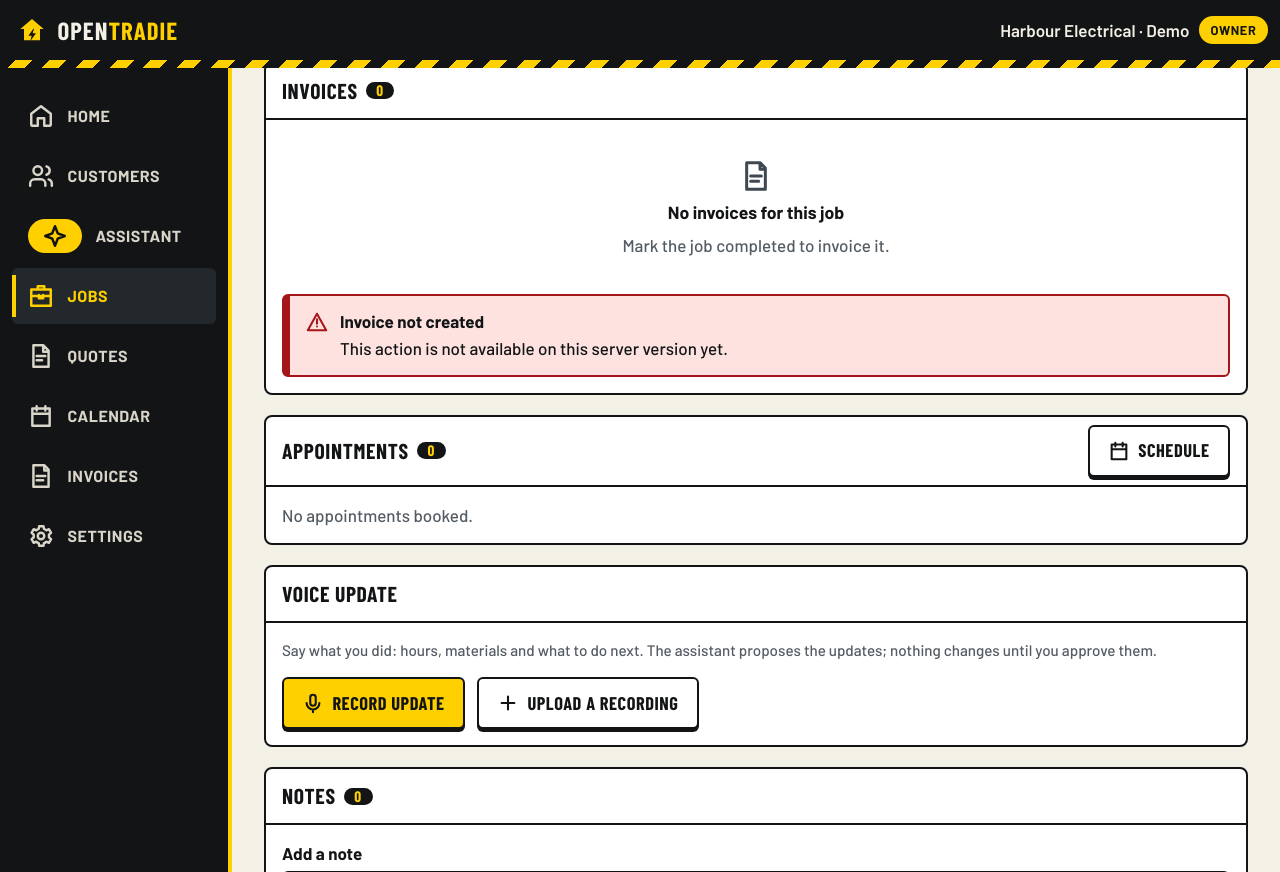
Test: scheduling from the job card › suggests free times and books one with an idempotency key
(page scrolled)
Click the button "Schedule".
click(1159, 450)  # box [1088,424,1230,476]
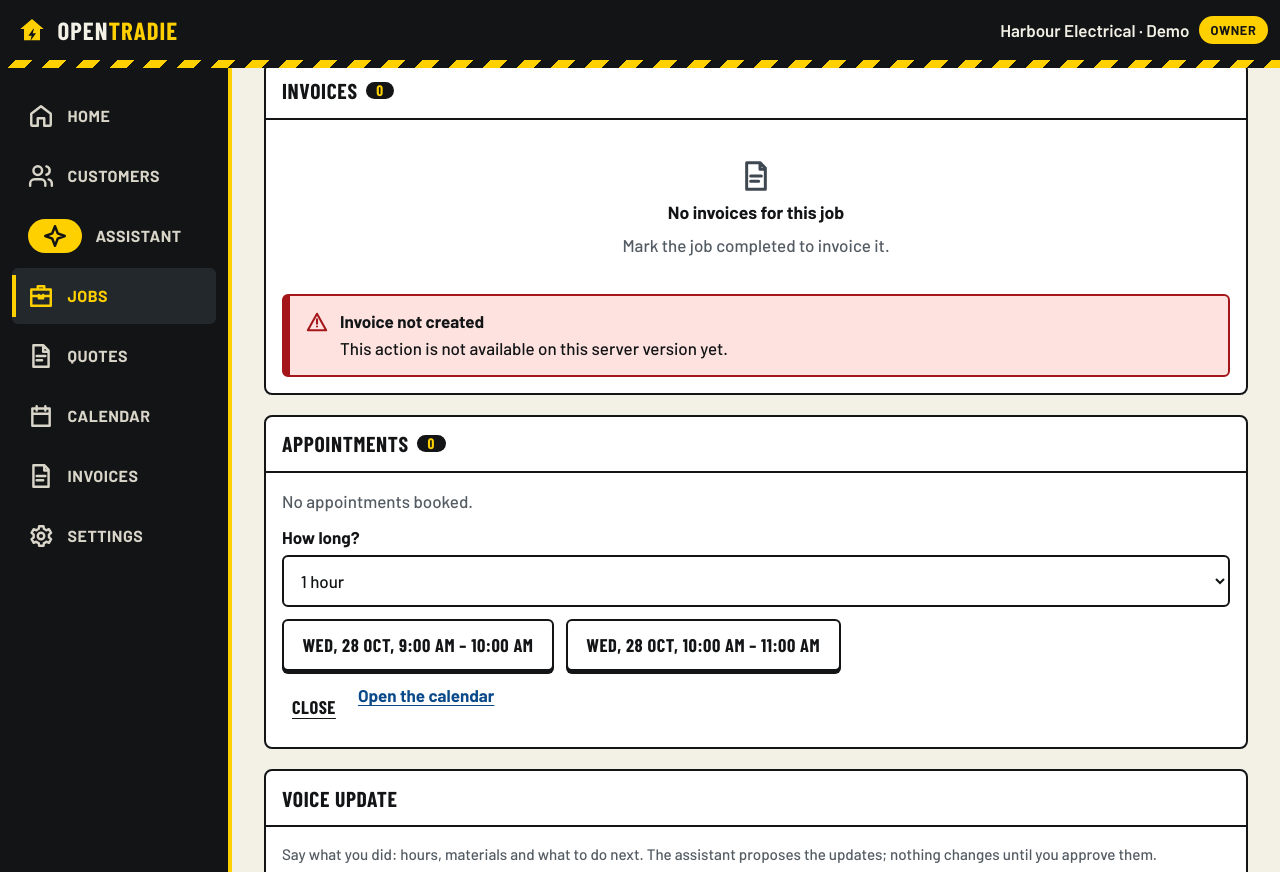
Expected: the button "Wed, 28 Oct, 9:00 am – 10:00 am" is shown
Click the button "Wed, 28 Oct, 9:00 am – 10:00 am".
click(418, 645)  # box [282,619,554,671]
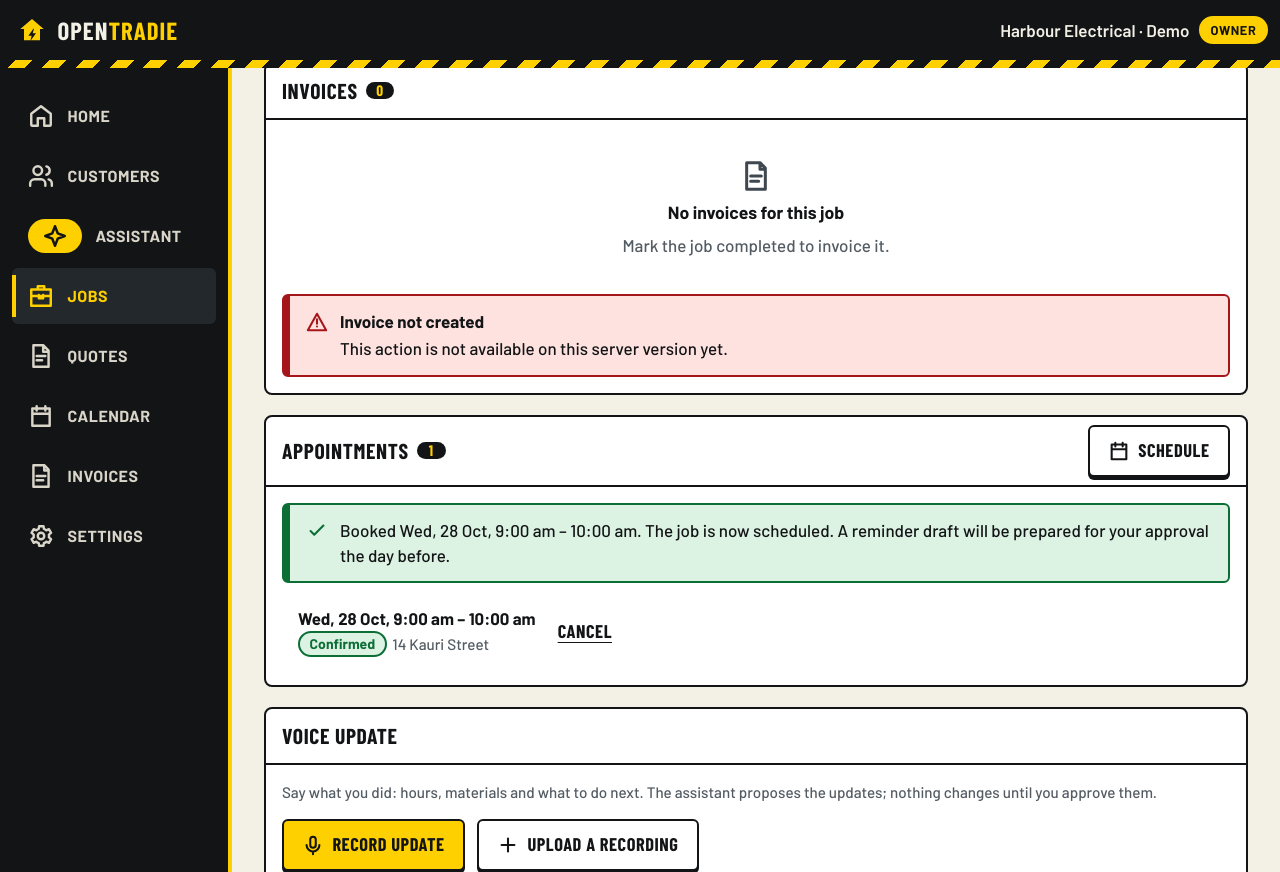
Expected: the text "Wed, 28 Oct, 9:00 am – 10:00 am" is shown, [298,606,536,630]
